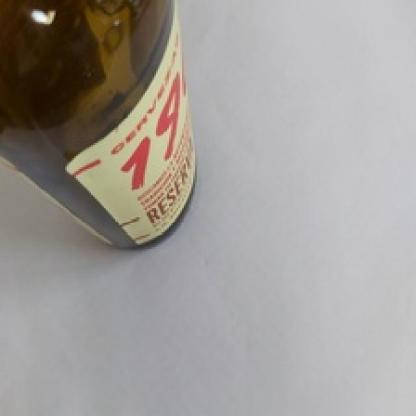Can: (0, 0, 197, 249)
